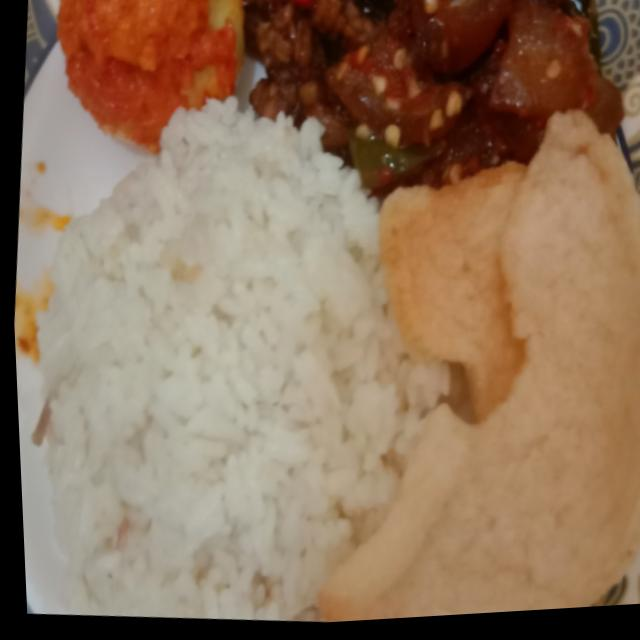nasi: (10, 75, 461, 640)
telur balado: (46, 0, 251, 166)
